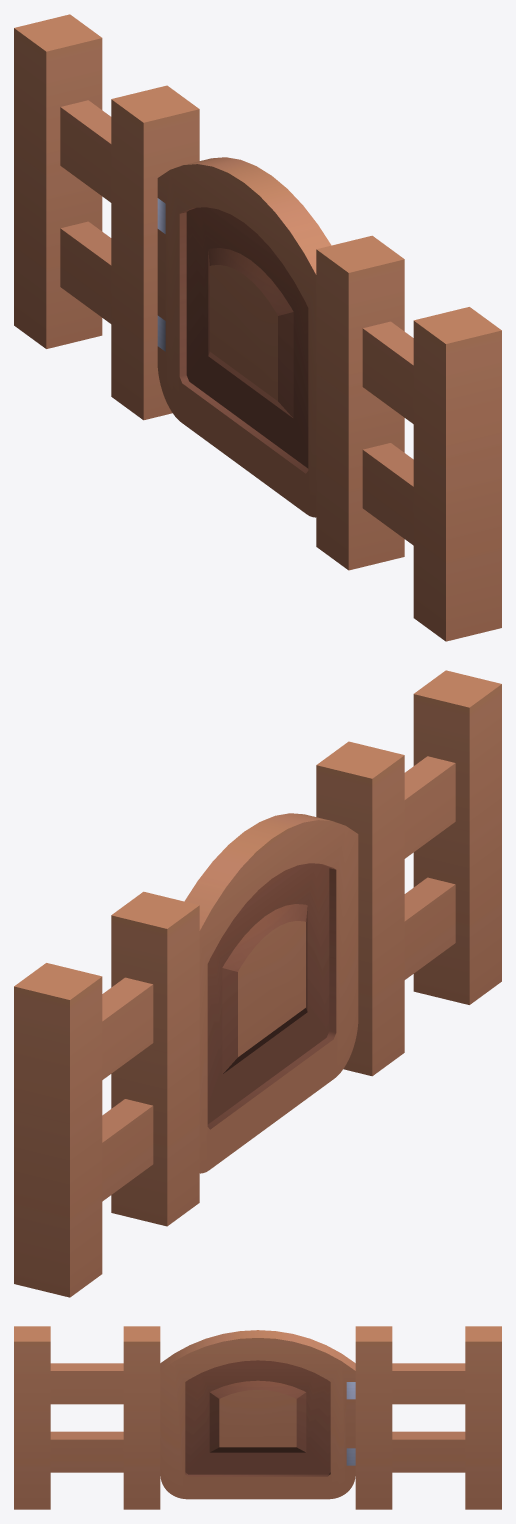
The model's file is fence-gate.glb.
3 renders of one model, top to bottom at view 1: azimuth 30°, elevation 25°; view 2: azimuth 150°, elevation 25°; view 3: azimuth 270°, elevation 25°, orthographic. The views are drawn at different scales.
Visible parts, largest first — view 1: fence-gate, gate; view 2: fence-gate, gate; view 3: fence-gate, gate.
Part boxes in pixels (left/top/right/bottom): fence-gate: left=14, top=14, right=501, bottom=641; gate: left=157, top=157, right=331, bottom=517; fence-gate: left=14, top=670, right=501, bottom=1297; gate: left=184, top=813, right=358, bottom=1173; fence-gate: left=14, top=1326, right=501, bottom=1509; gate: left=160, top=1330, right=355, bottom=1499.
Size of the model in its own units: 0.075 by 0.38 by 1.
1 material, 1 textured.
